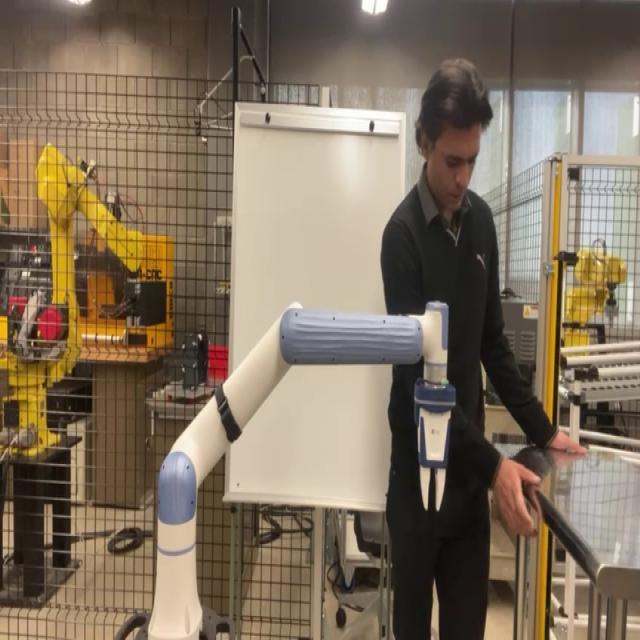robot: (138, 283, 464, 640)
